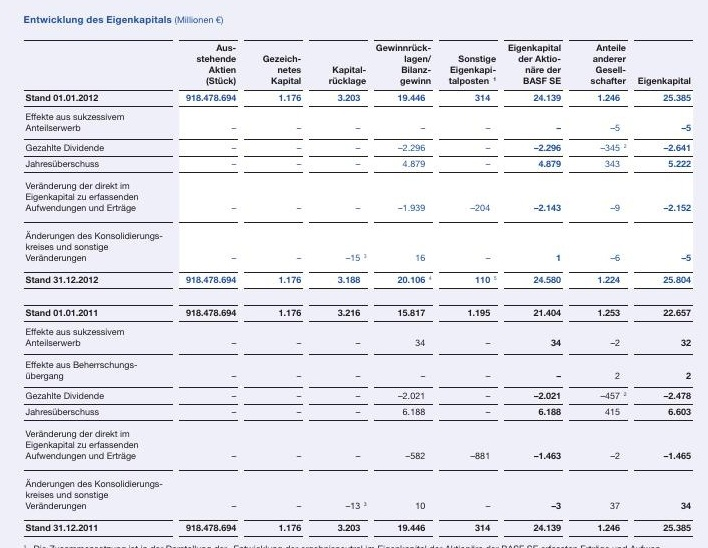table: (0, 0, 708, 548)
